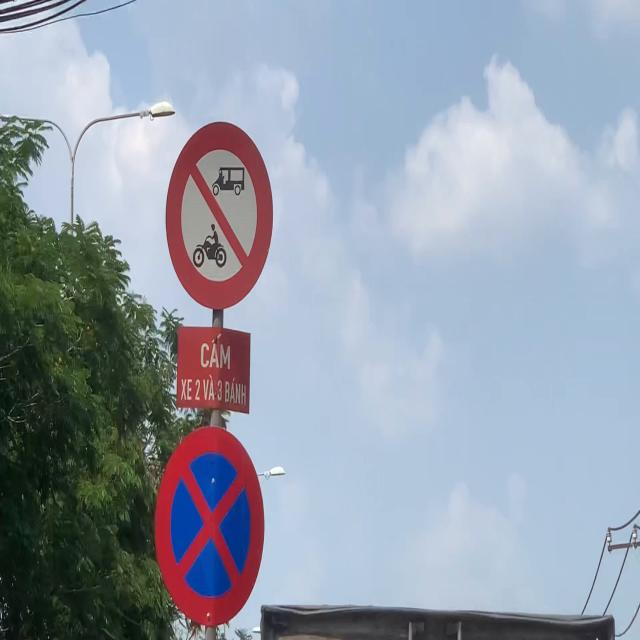Cam dung va do: (149, 416, 275, 632)
